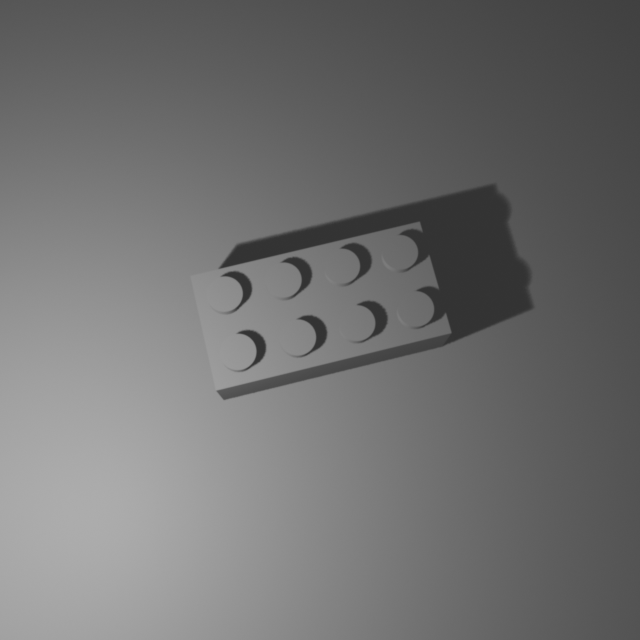lego_2x4: (189, 218, 453, 400)
